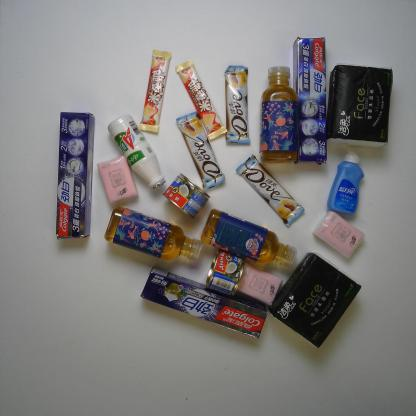Canned Food: (164, 173, 210, 220), (203, 250, 245, 292)
Chocolate: (236, 154, 302, 223), (175, 58, 228, 140), (175, 111, 226, 192), (139, 48, 172, 132), (222, 63, 252, 145)
Drink: (104, 207, 204, 262), (202, 210, 298, 267), (260, 64, 299, 163)
Milk: (108, 113, 165, 189)
Personal Hygiene: (137, 269, 269, 339), (294, 35, 333, 163), (55, 109, 91, 238), (327, 148, 366, 217)
Tissue: (271, 254, 364, 350), (328, 63, 396, 145), (314, 212, 365, 260), (232, 263, 283, 306), (97, 156, 139, 205)
